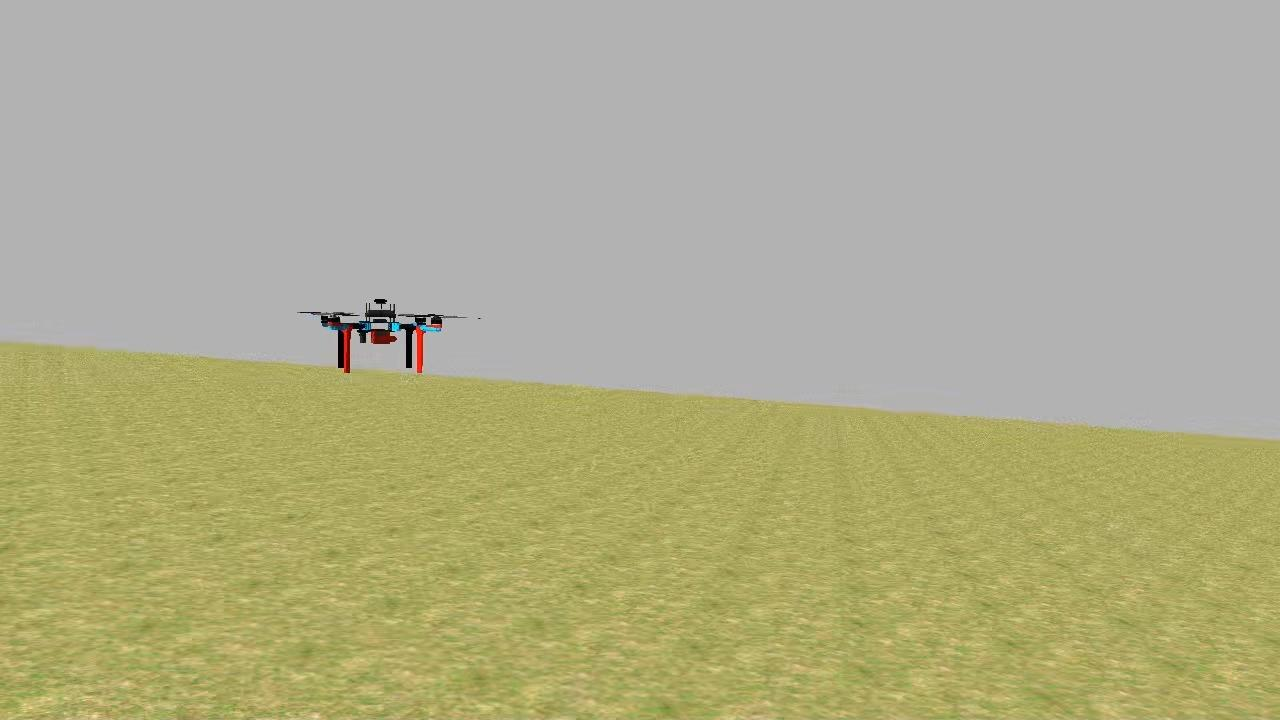UAV: (312, 294, 452, 376)
